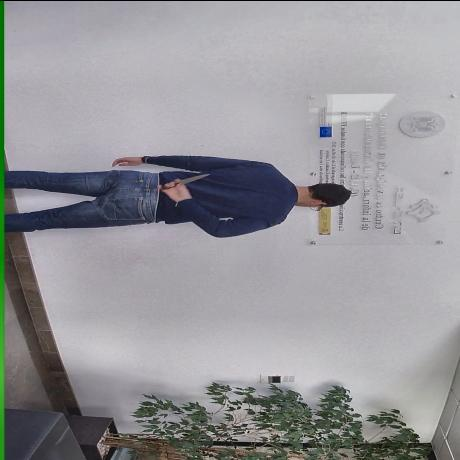1: (0, 152, 354, 235)
weapon: (162, 172, 210, 188)
